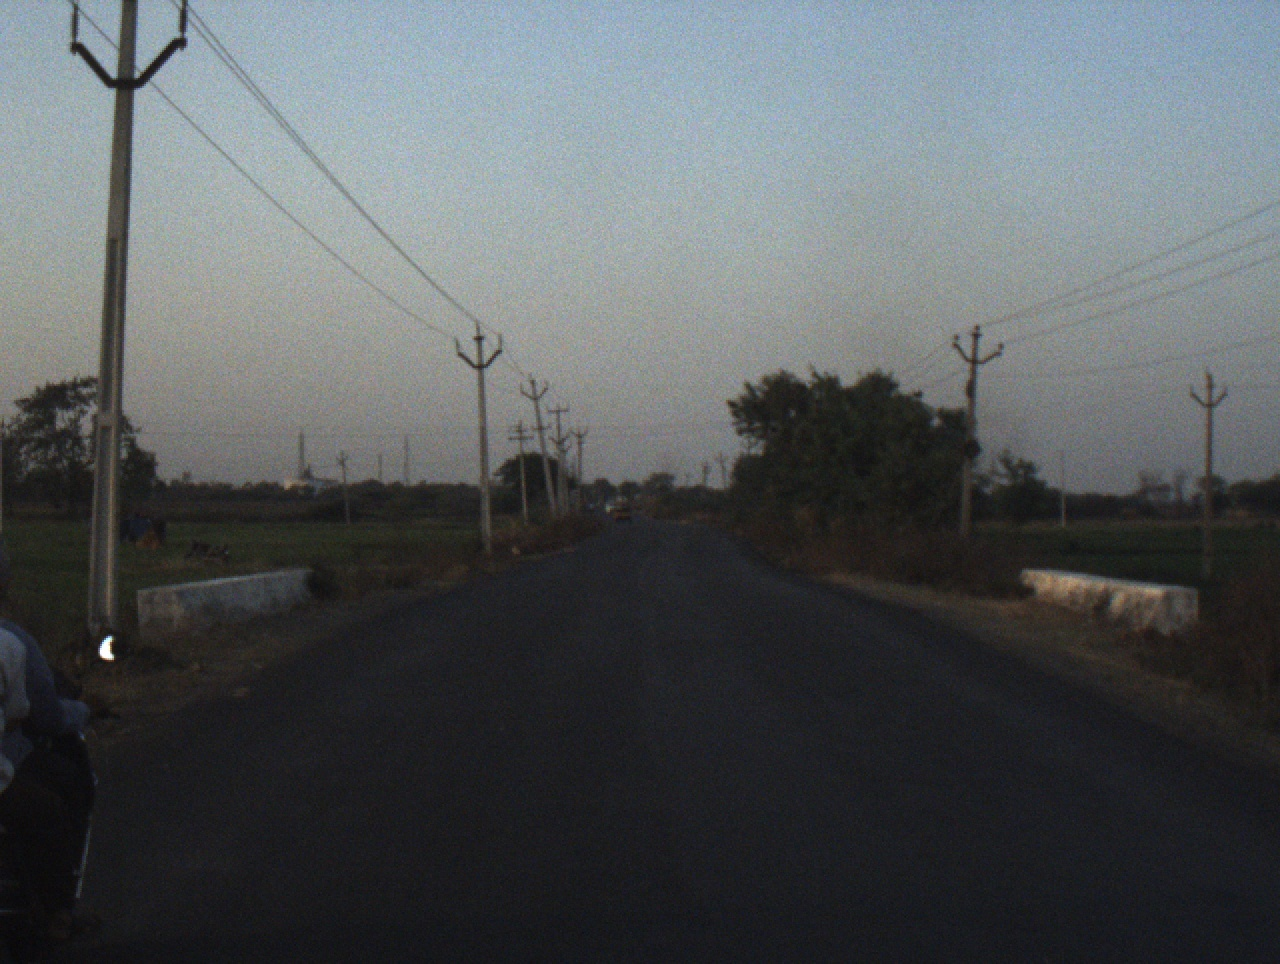autorickshaw: (607, 497, 630, 522)
bicycle: (590, 508, 595, 517)
car: (605, 499, 616, 514)
motorcycle: (35, 631, 131, 944)
rider: (0, 620, 74, 940), (1, 599, 110, 732), (589, 502, 595, 513)
